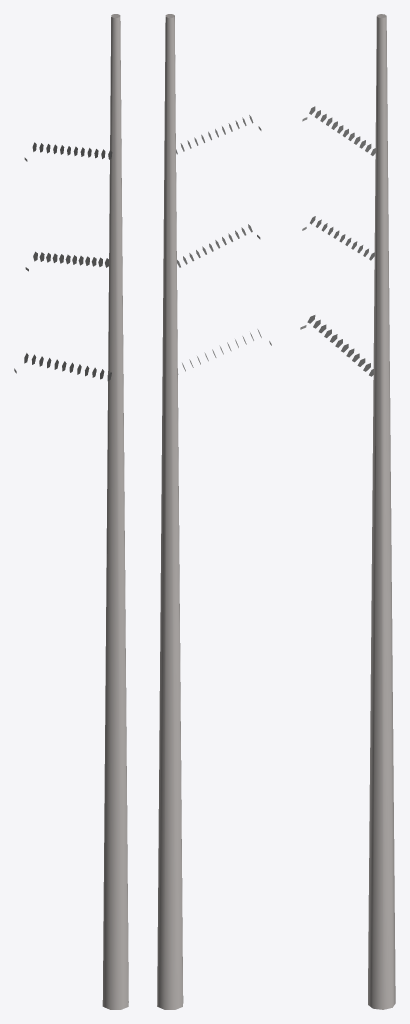
The model's file is DarienTornadoPowerPole.fbx.
The picture shows the model from 3 angles, left to right: view 1: azimuth 30°, elevation 25°; view 2: azimuth 210°, elevation 25°; view 3: azimuth 330°, elevation 25°; orthographic projection.
Visible parts, largest first — view 1: pole_140_3_1, arm3, arm2, arm1; view 2: pole_140_3_1; view 3: pole_140_3_1, arm2, arm1, arm3.
Part boxes in pixels (x1,y1,x2,y2): pole_140_3_1: (102,14,128,1009); arm3: (25,251,109,271); arm2: (14,353,111,380); arm1: (24,142,112,161); pole_140_3_1: (157,14,183,1009); pole_140_3_1: (368,14,395,1009); arm2: (300,315,373,376); arm1: (302,106,375,155); arm3: (302,216,374,260).
Size of the model in its own units: 52.4 by 483 by 17.76.
